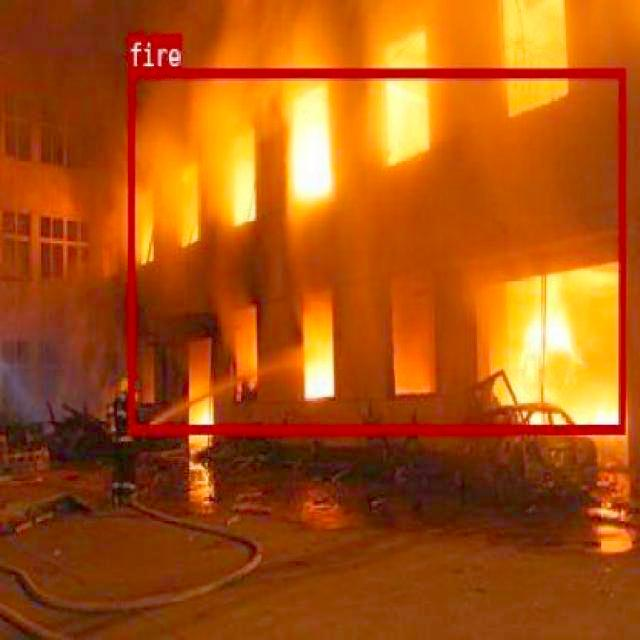fire: (127, 68, 624, 432)
